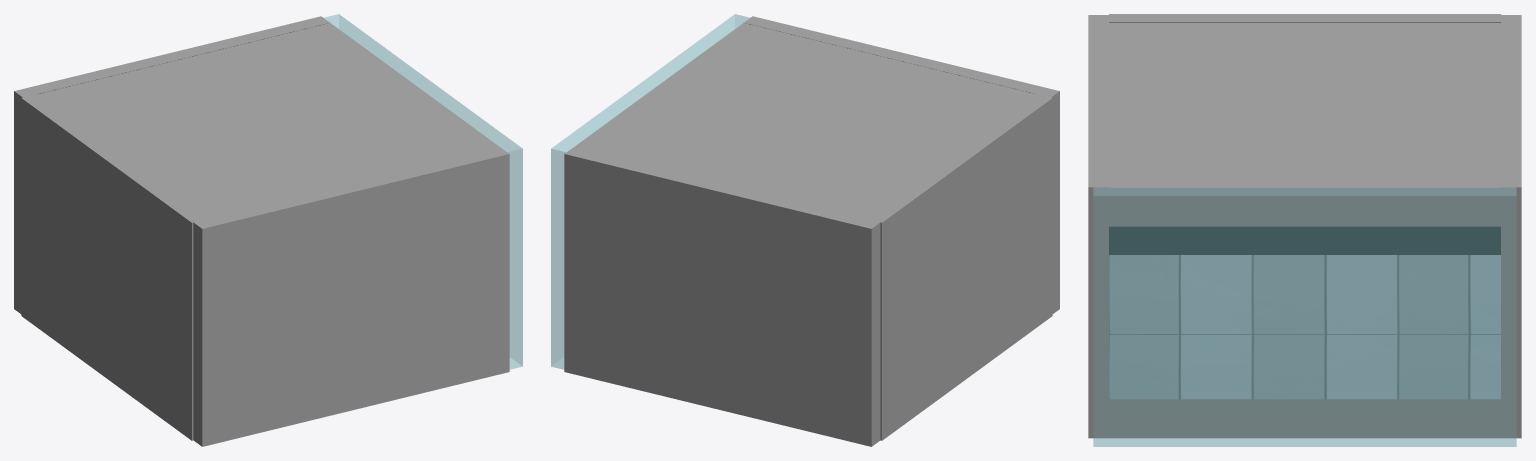
Rendered from WazerRoom.fbx.
The picture shows the model from 3 angles, left to right: view 1: azimuth 30°, elevation 25°; view 2: azimuth 150°, elevation 25°; view 3: azimuth 270°, elevation 25°; orthographic projection. The views are drawn at different scales.
Visible parts, largest first — view 1: pCube5, pCube3, pCube4, pCube2, pCube6; view 2: pCube6, pCube3, pCube4, pCube2, pCube5; view 3: pCube2, pCube3, pCube1, pCube4, pCube5, pCube6.
Part boxes in pixels (x1=…): pCube5: x1=193, y1=147, x2=509, y2=446; pCube3: x1=37, y1=23, x2=499, y2=218; pCube4: x1=21, y1=94, x2=206, y2=440; pCube2: x1=324, y1=14, x2=522, y2=369; pCube6: x1=14, y1=16, x2=329, y2=313; pCube6: x1=564, y1=147, x2=880, y2=446; pCube3: x1=574, y1=23, x2=1036, y2=218; pCube4: x1=867, y1=94, x2=1052, y2=440; pCube2: x1=551, y1=14, x2=749, y2=369; pCube5: x1=744, y1=16, x2=1059, y2=313; pCube2: x1=1093, y1=187, x2=1516, y2=446; pCube3: x1=1109, y1=23, x2=1501, y2=226; pCube1: x1=1109, y1=255, x2=1501, y2=438; pCube4: x1=1109, y1=14, x2=1501, y2=254; pCube5: x1=1088, y1=15, x2=1108, y2=438; pCube6: x1=1501, y1=15, x2=1521, y2=438.
Bounding box in the file's own units: 110 × 71.03 × 111.
